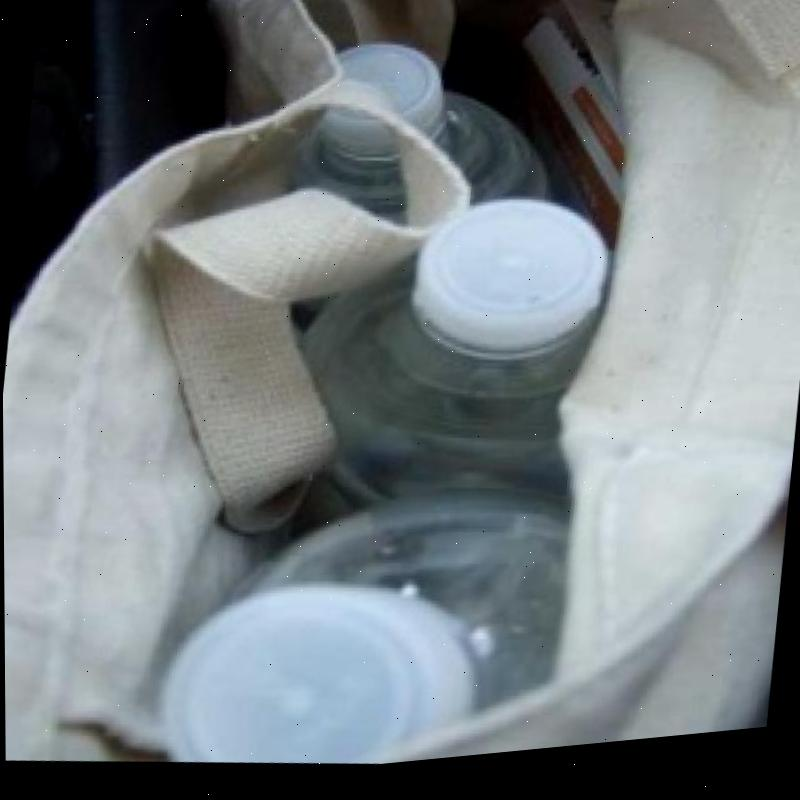botella: (151, 460, 595, 789), (279, 169, 633, 558), (281, 27, 562, 262)
